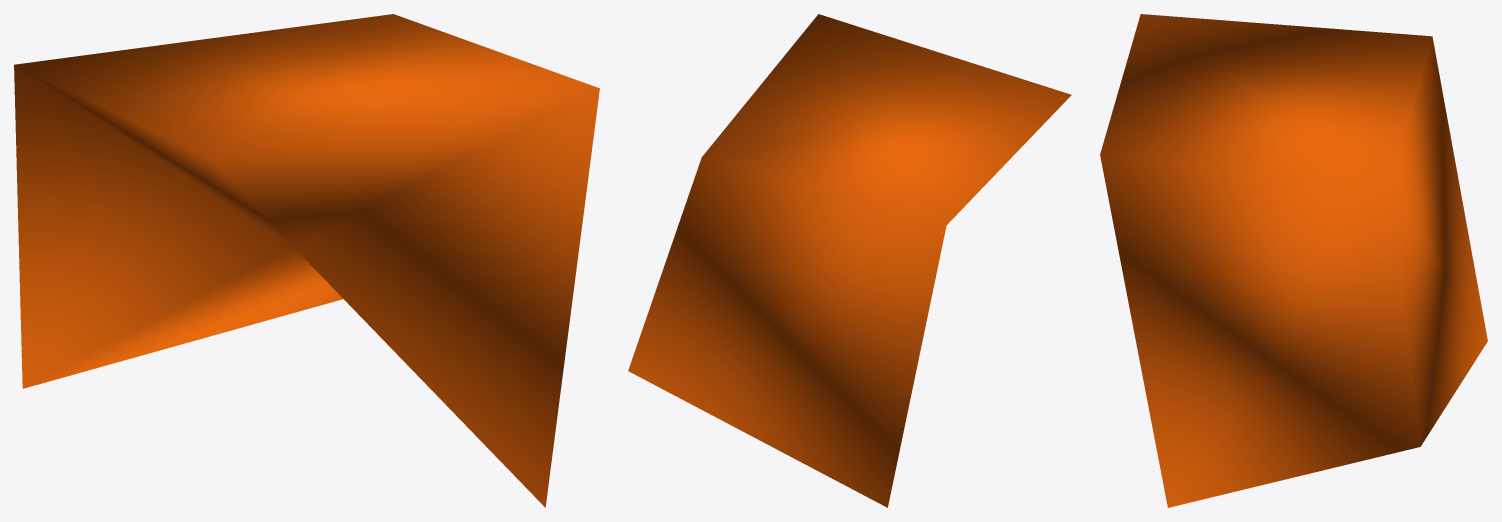
The model's file is rock3.glb.
3 renders of one model, left to right at view 1: azimuth 30°, elevation 25°; view 2: azimuth 150°, elevation 25°; view 3: azimuth 270°, elevation 25°, orthographic. The views are drawn at different scales.
Parts seen in each view (by area): view 1: rock.002; view 2: rock.002; view 3: rock.002.
Part boxes in pixels (left/top/right/bottom): rock.002: left=14, top=14, right=599, bottom=507; rock.002: left=628, top=14, right=1071, bottom=507; rock.002: left=1100, top=14, right=1487, bottom=507.
Size of the model in its own units: 3.38 by 3.37 by 3.31.
